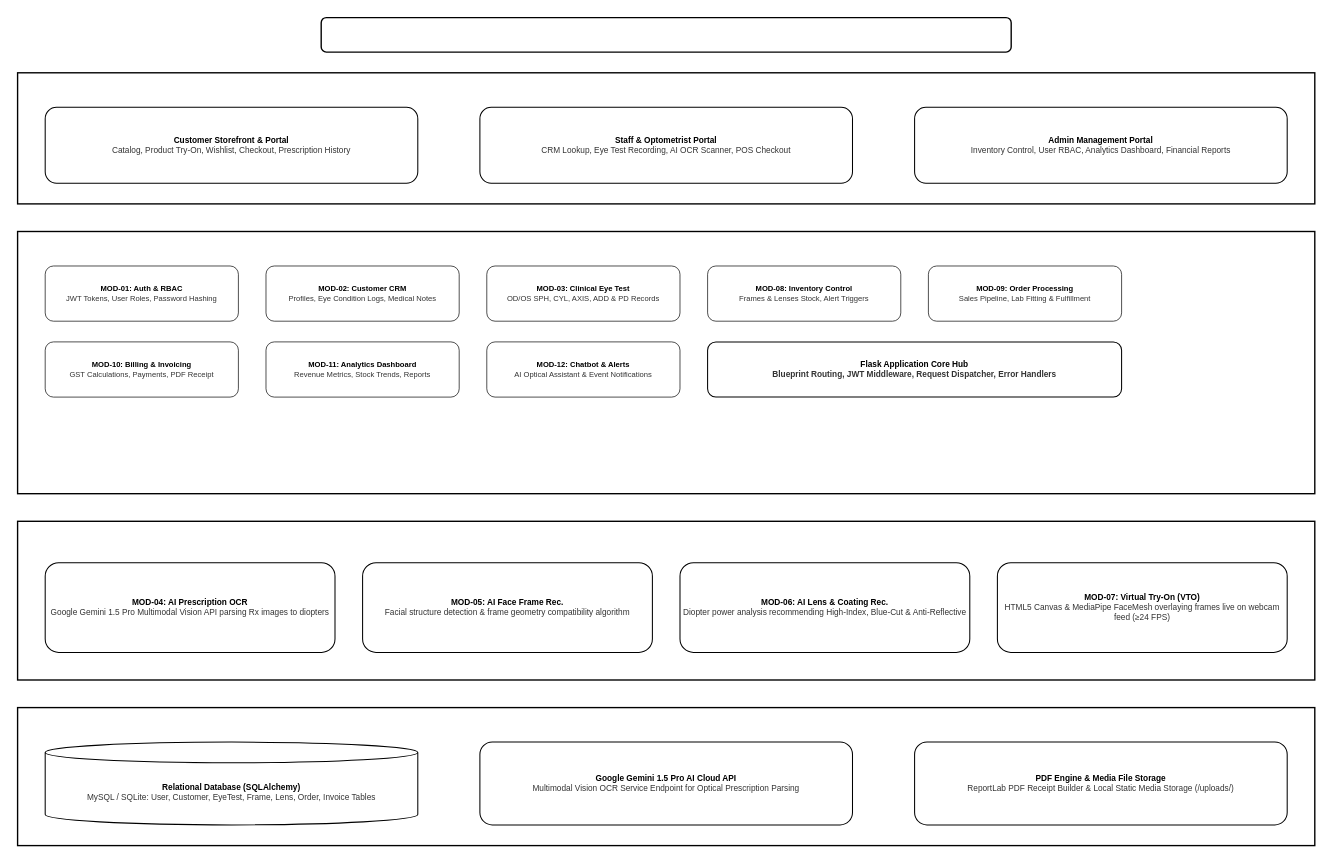
Some shapes in this 1328 by 858 pixel diagram are drawn without their labels. Here are the shapes that lost their labels. From the top down, the box of each, then its label:
(320, 17, 1012, 52): VisionEdge: System Module Architecture & Planning Diagram
(17, 72, 1315, 204): 1. FRONTEND PRESENTATION LAYER (Web Clients & Portals)
(17, 230, 1315, 494): 2. BACKEND API CONTROLLER LAYER (Flask RESTful Services)
(17, 520, 1315, 680): 3. AI & COMPUTER VISION INTELLIGENCE LAYER
(17, 707, 1315, 846): 4. PERSISTENCE & EXTERNAL SERVICES LAYER
